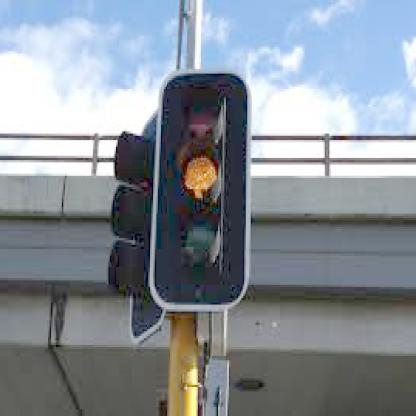traffic-light: (173, 96, 234, 274)
